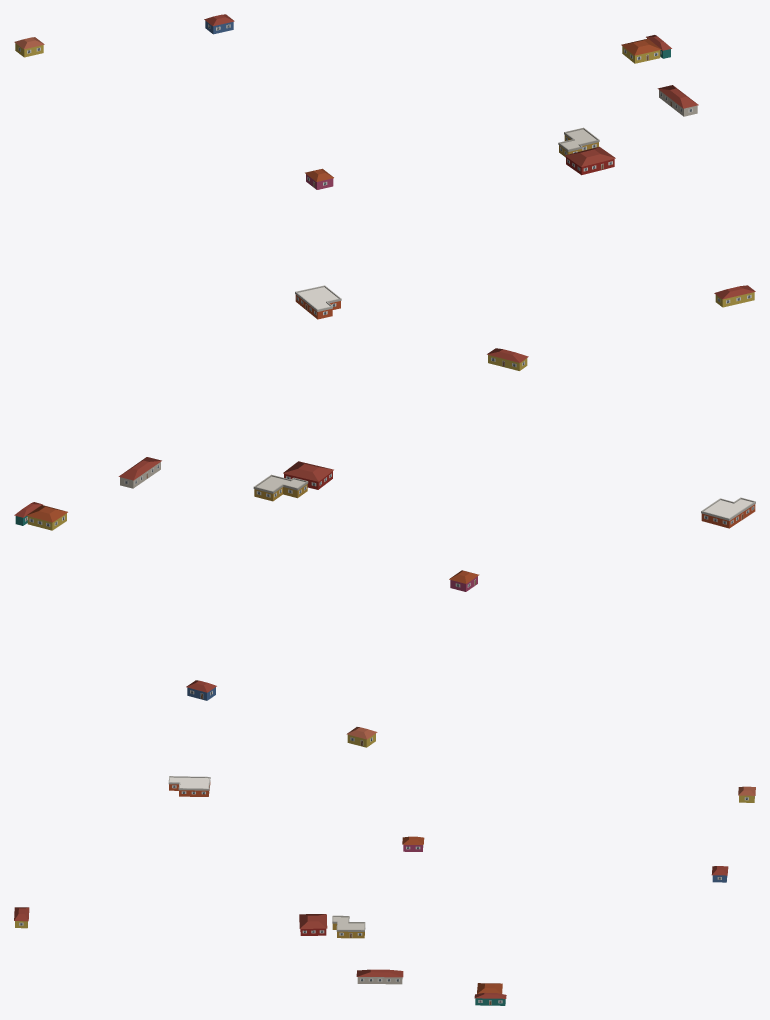
The model's file is msb_oranjestad_m19_m3.glb.
3 views of the same model, one above another, from view 1: azimuth 30°, elevation 25°; view 2: azimuth 150°, elevation 25°; view 3: azimuth 270°, elevation 25° (orthographic). The views are drawn at different scales.
Visible parts, largest first — view 1: msb_oranjestad_m19_m3_lod0; view 2: msb_oranjestad_m19_m3_lod0; view 3: msb_oranjestad_m19_m3_lod0.
Boxes of the visible parts, x1,y1,x2,y2 form: msb_oranjestad_m19_m3_lod0: [14, 14, 755, 319]; msb_oranjestad_m19_m3_lod0: [14, 348, 755, 747]; msb_oranjestad_m19_m3_lod0: [14, 776, 755, 1005].
Size of what is drawn, in the model's own units: 226 by 9.76 by 317.
Materials: 3 (1 with a texture image).
